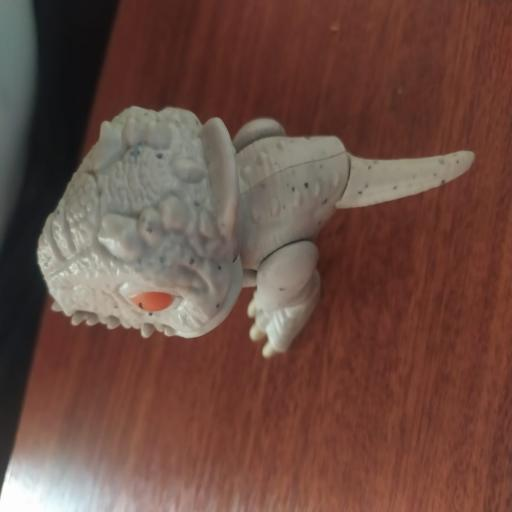Dinosaurio: (32, 99, 478, 367)
